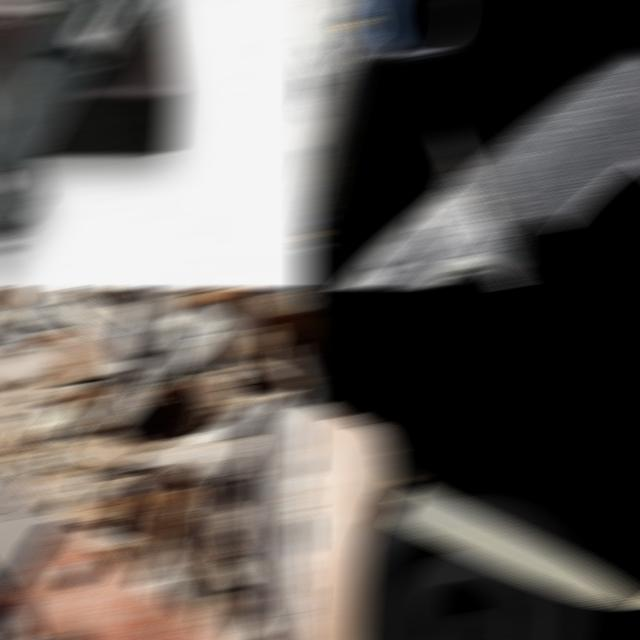Knife: (335, 51, 640, 287), (0, 1, 163, 256), (380, 472, 640, 605)
Knife_Handle: (300, 371, 640, 619)
